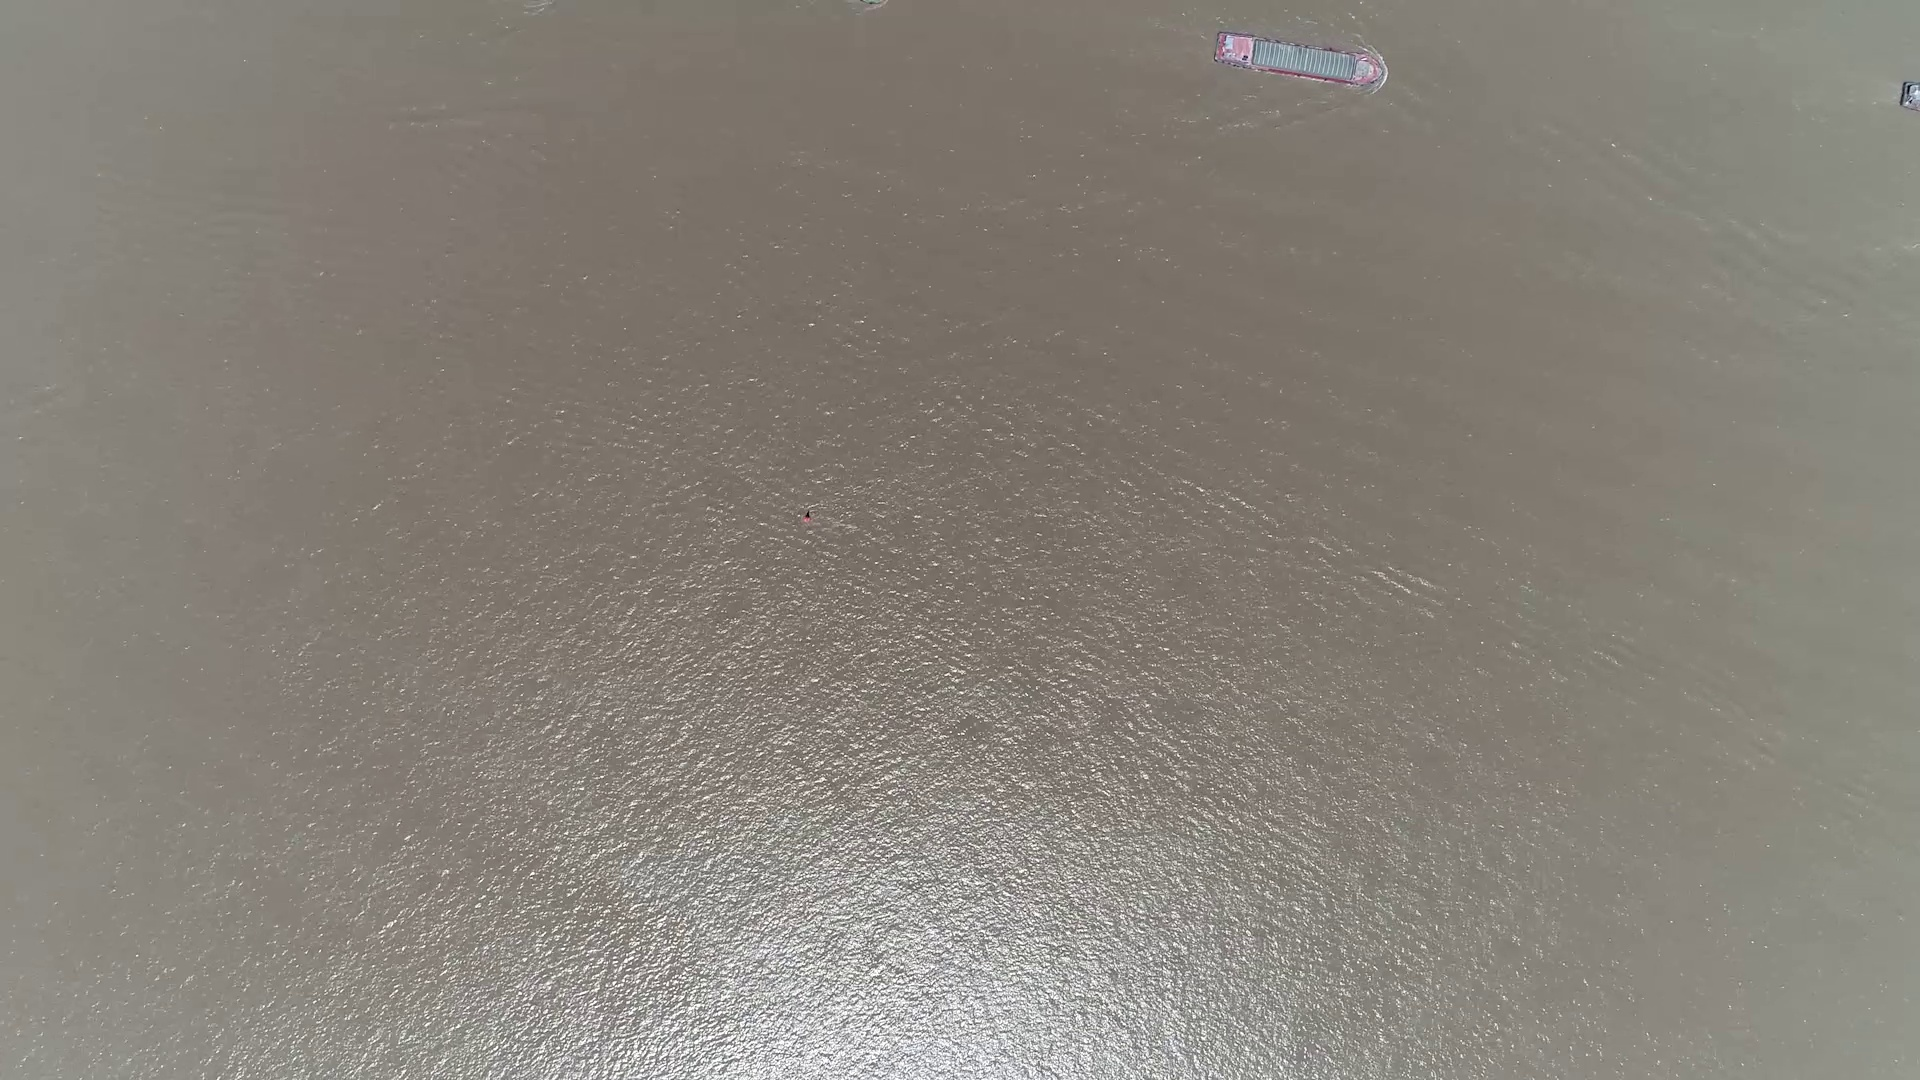ship: (1212, 33, 1387, 88)
